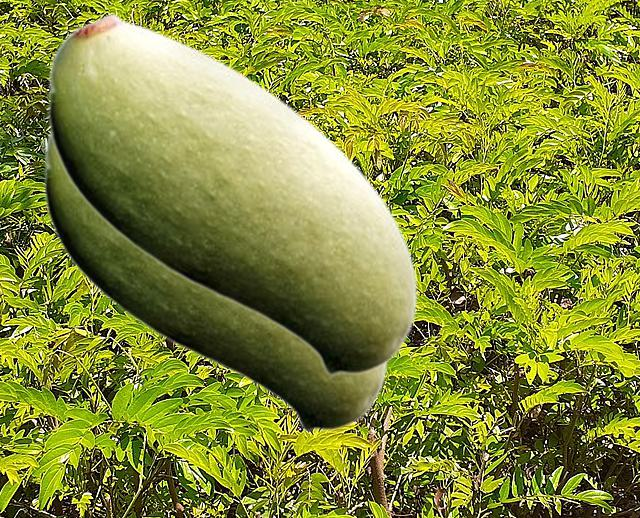green_mango: (47, 11, 417, 376), (43, 131, 387, 432)
